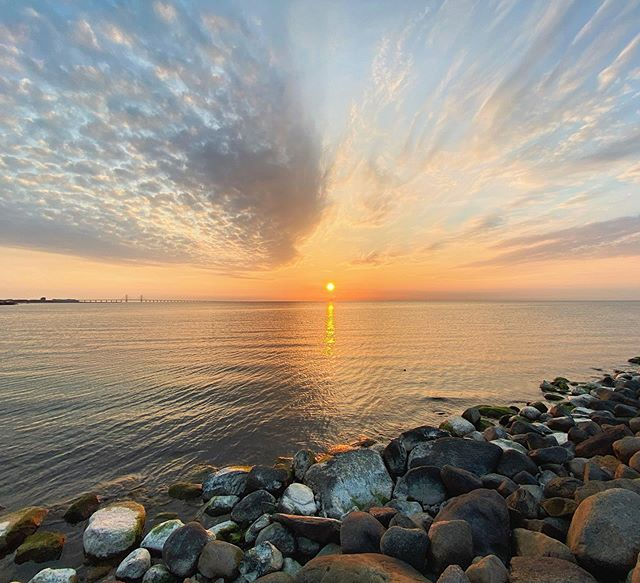rocks: (1, 377, 640, 583)
sea: (1, 297, 632, 469)
sky: (5, 1, 640, 287)
sun: (318, 278, 352, 296)
